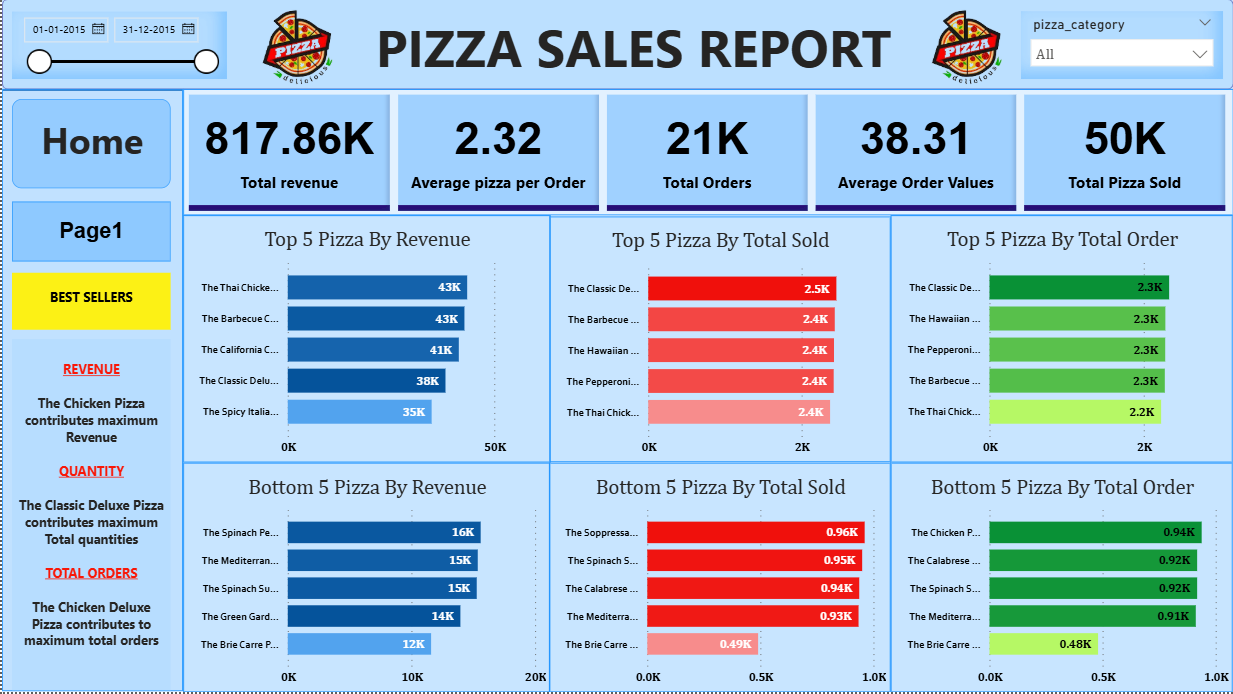

Layout of this report page (visuals, bound fields, positions):
{"tool":"powerbi","page":{"name":"Page 2","canvas":[1280,720],"ordinal":1},"visuals":[{"type":"shape","box":[0,0,1279.6,94.1],"z":0},{"type":"textbox","box":[306.3,0,717.6,94.1],"z":1000},{"type":"shape","box":[0,94.1,188.1,625.9],"z":2000},{"type":"textbox","box":[9.8,103.9,165,92.9],"z":3000},{"type":"cardVisual","fields":{"Data":["pizza_sales.Total revenue","pizza_sales.Average pizza per Order","pizza_sales.Total Orders","pizza_sales.Average Order Values","pizza_sales.Total Pizza Sold"]},"box":[188.1,94.1,1091.5,131.5],"z":4000},{"type":"image","box":[234,0,145.9,104.9],"z":5000},{"type":"image","box":[946.1,0,111.2,105.1],"z":6000},{"type":"barChart","title":"Top 5 Pizza By Revenue ","fields":{"Category":["pizza_sales.pizza_name"],"Y":["pizza_sales.Total revenue"]},"box":[188,225,381.5,256.6],"z":7000},{"type":"barChart","title":"Top 5 Pizza By Total Order","fields":{"Y":["pizza_sales.Total Orders"],"Category":["pizza_sales.pizza_name"]},"box":[923.5,225,355.4,256.6],"z":8000},{"type":"barChart","title":"Top 5 Pizza By Total Sold","fields":{"Category":["pizza_sales.pizza_name"],"Y":["pizza_sales.Total Pizza Sold"]},"box":[569.5,226.4,354,255.2],"z":9000},{"type":"barChart","title":" Bottom 5 Pizza By Revenue ","fields":{"Category":["pizza_sales.pizza_name"],"Y":["pizza_sales.Total revenue"]},"box":[188,482,381,238],"z":10000},{"type":"barChart","title":"Bottom 5 Pizza By Total Sold","fields":{"Category":["pizza_sales.pizza_name"],"Y":["pizza_sales.Total Pizza Sold"]},"box":[569,482,354,238],"z":11000},{"type":"barChart","title":"Bottom 5 Pizza By Total Order","fields":{"Category":["pizza_sales.pizza_name"],"Y":["pizza_sales.Total Orders"]},"box":[924,482,355,238],"z":12000},{"type":"actionButton","box":[9.8,210.3,165,62.3],"z":13000},{"type":"textbox","box":[10,285,165,59],"z":14000},{"type":"textbox","box":[9.8,353.3,165,366.7],"z":15000},{"type":"slicer","fields":{"Values":["pizza_sales.pizza_category"]},"box":[1058,12.5,210.2,70.5],"z":16000},{"type":"slicer","fields":{"Values":["pizza_sales.order_date"]},"box":[10.3,12.8,223.1,70.5],"z":17000}]}

Visuals, with their boxes in screenshot pixels (x1, y1, x2, y2), scaled from the page's 1280x720 canvas onto the 1233x694 screenshot:
shape: 0, 0, 1232, 91
textbox: 295, 0, 986, 91
shape: 0, 91, 181, 693
textbox: 9, 100, 168, 190
cardVisual - pizza_sales.Total revenue x pizza_sales.Average pizza per Order: 181, 91, 1232, 217
image: 225, 0, 366, 101
image: 911, 0, 1018, 101
"Top 5 Pizza By Revenue " barChart: 181, 217, 549, 464
"Top 5 Pizza By Total Order" barChart: 890, 217, 1232, 464
"Top 5 Pizza By Total Sold" barChart: 549, 218, 890, 464
" Bottom 5 Pizza By Revenue " barChart: 181, 465, 548, 693
"Bottom 5 Pizza By Total Sold" barChart: 548, 465, 889, 693
"Bottom 5 Pizza By Total Order" barChart: 890, 465, 1232, 693
actionButton: 9, 203, 168, 263
textbox: 10, 275, 169, 332
textbox: 9, 341, 168, 693
slicer - pizza_sales.pizza_category: 1019, 12, 1222, 80
slicer - pizza_sales.order_date: 10, 12, 225, 80
